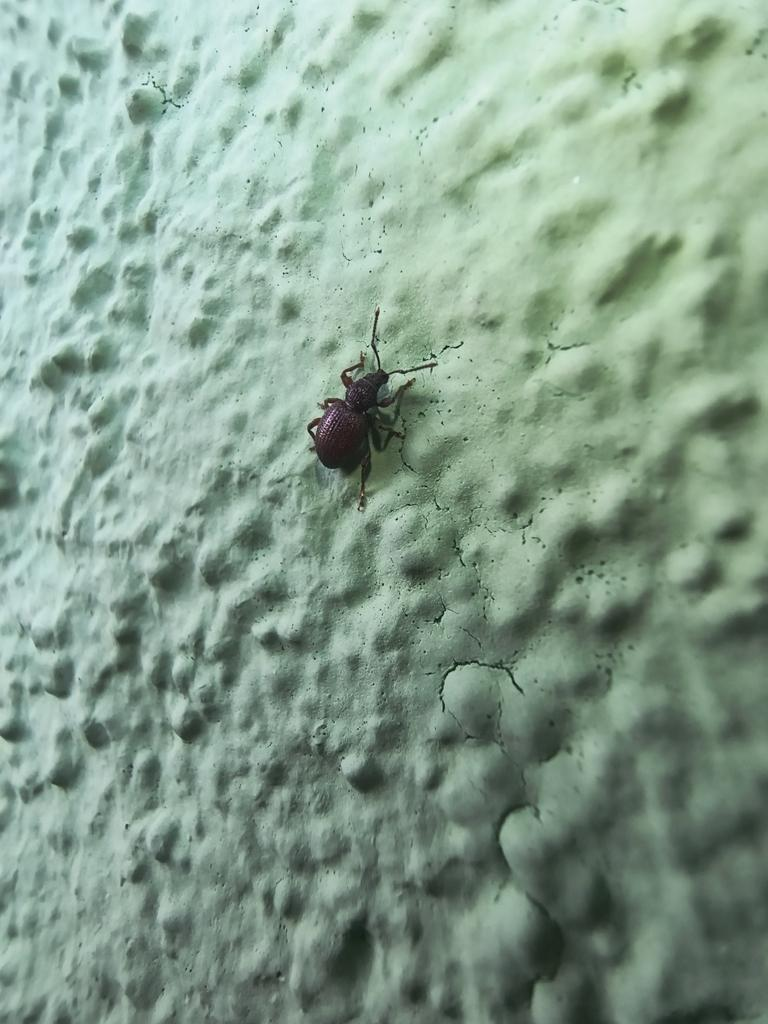weevils: (260, 274, 459, 530)
